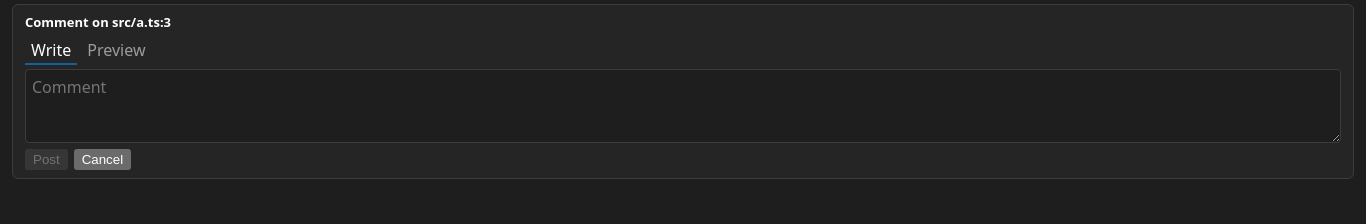
Scenario: LineComment › shows the error on Preview and keeps the draft
In the text box labelled "Comment": {"x": 683, "y": 106} [25, 69, 1341, 143], type "why?"
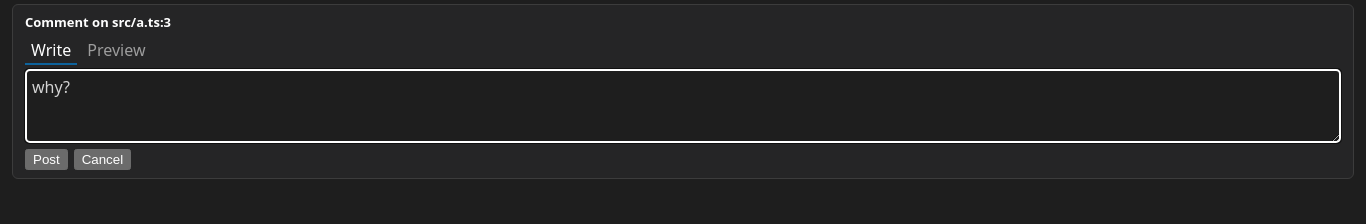
Click the tab "Preview": {"x": 116, "y": 51} [81, 37, 152, 65]
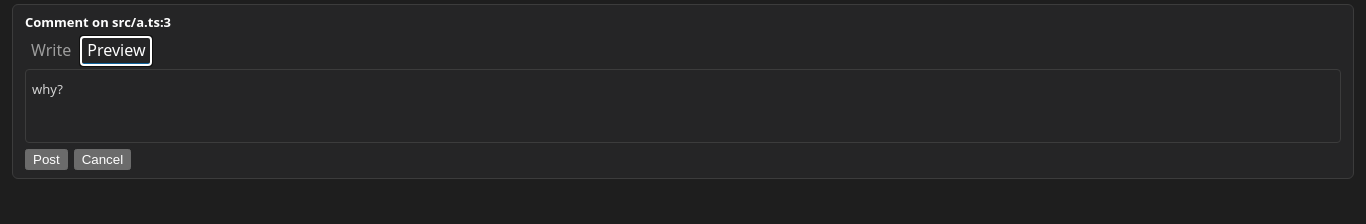
Click the button "Post": {"x": 46, "y": 160} [25, 149, 68, 170]
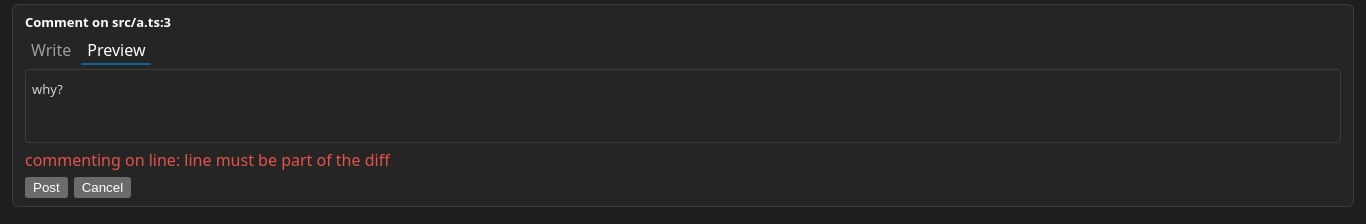
Now the message reads "commenting on line: line must be part of the diff", box [25, 149, 390, 171]
Click the tab "Write": {"x": 51, "y": 51} [25, 37, 77, 65]
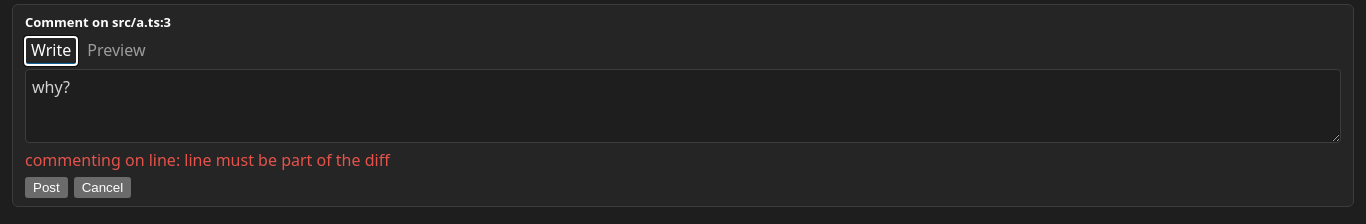
Now the text box named "Comment" holds "why?", box [25, 69, 1341, 143]
